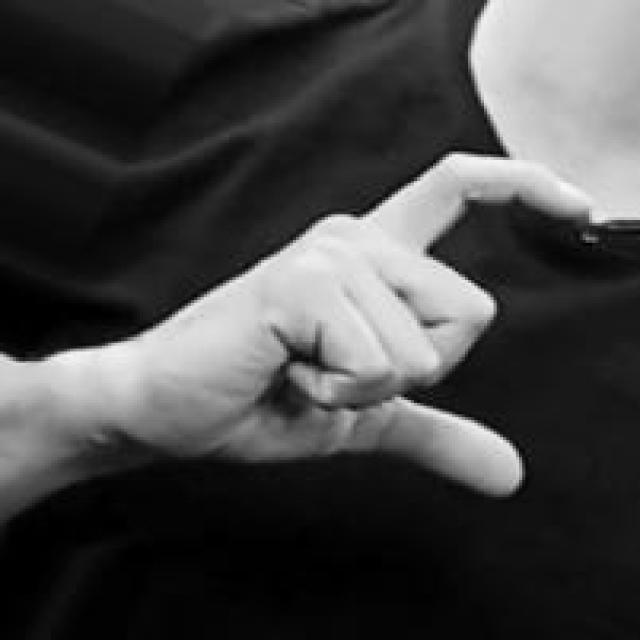C: (107, 152, 598, 500)
